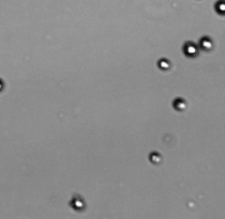Living Cell: (182, 41, 199, 58), (70, 194, 86, 211), (172, 96, 187, 111), (199, 37, 213, 51), (157, 58, 171, 71), (148, 151, 162, 163), (214, 1, 225, 16)
